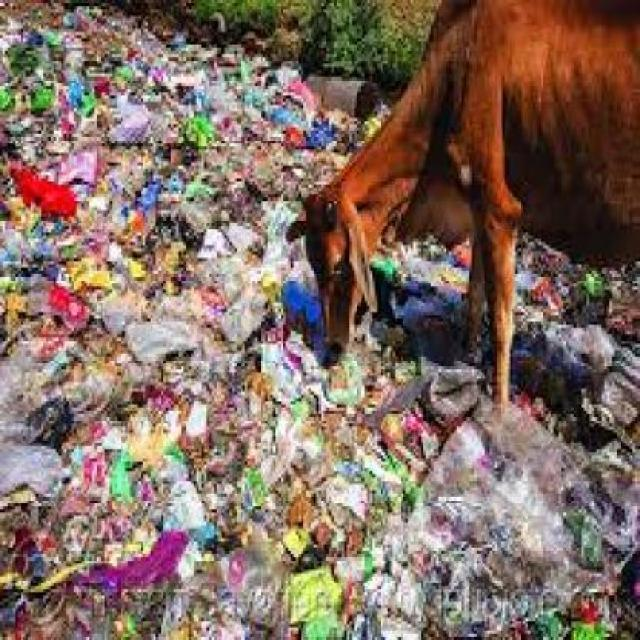garbage: (20, 20, 274, 622), (252, 372, 630, 630)
